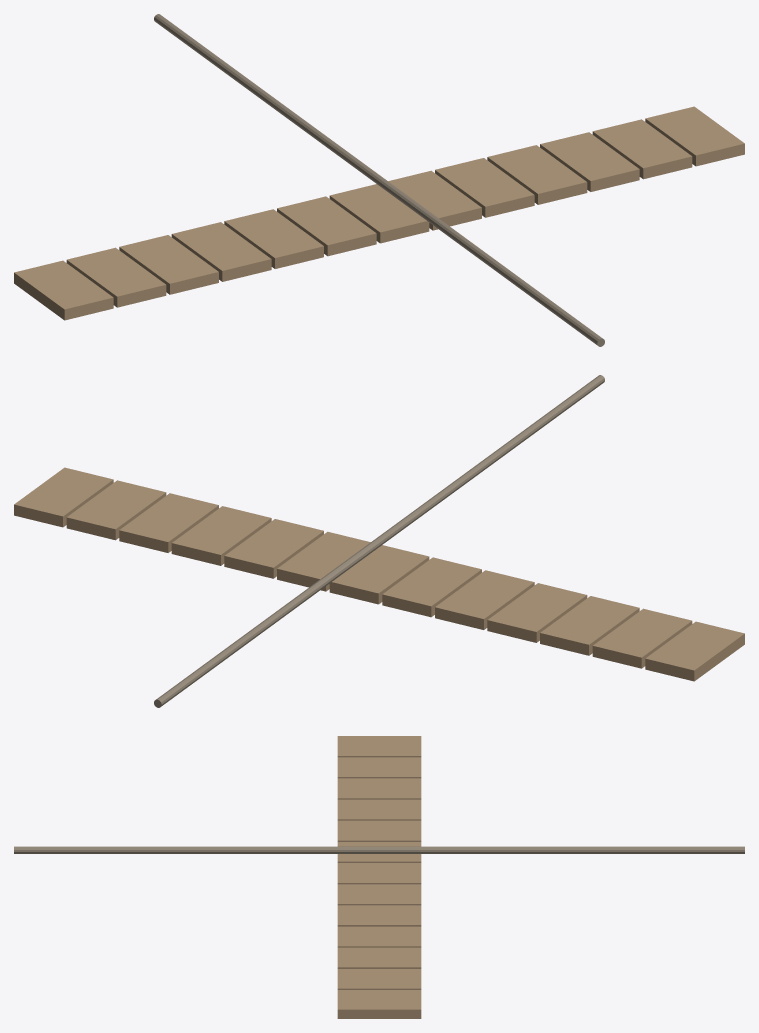
Rendered from sky_bridge_long.glb.
3 views of the same model, one above another, from view 1: azimuth 30°, elevation 25°; view 2: azimuth 150°, elevation 25°; view 3: azimuth 270°, elevation 25° (orthographic). The views are drawn at different scales.
Visible parts, largest first — view 1: world; view 2: world; view 3: world.
Boxes of the visible parts, x1,y1,x2,y2 form: world: (14, 14, 744, 346); world: (14, 375, 744, 707); world: (14, 736, 744, 1018).
Size of the model in its own units: 7.76 by 0.465 by 8.76.
